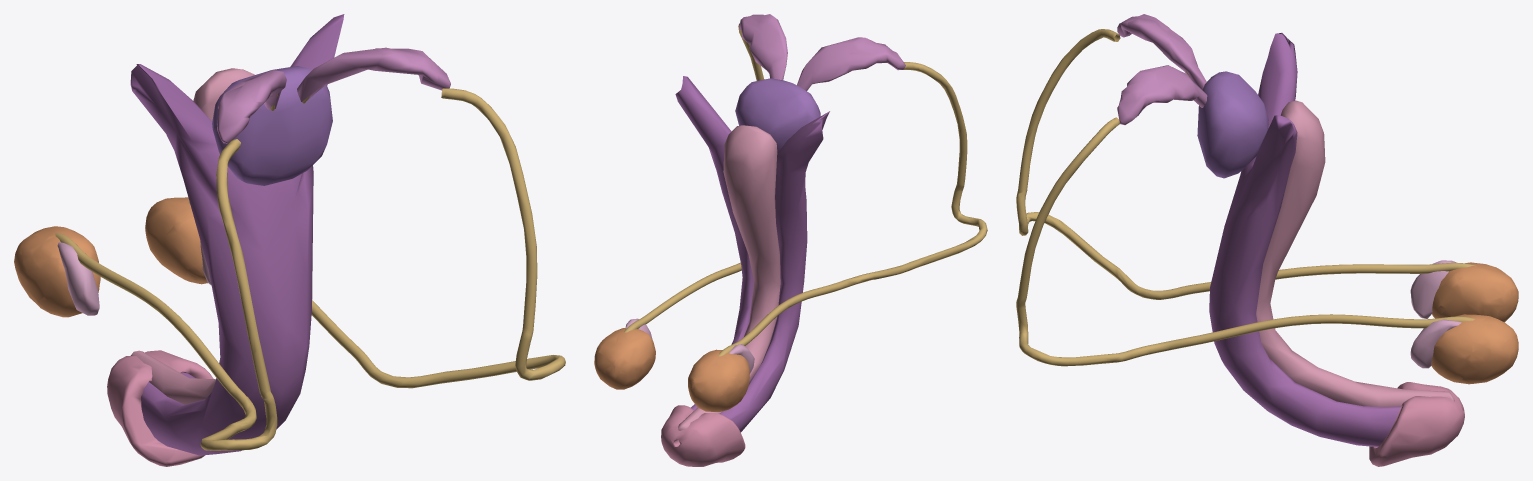
File: reproductive.glb
3 renders of one model, left to right at view 1: azimuth 30°, elevation 25°; view 2: azimuth 150°, elevation 25°; view 3: azimuth 270°, elevation 25°, orthographic. The views are drawn at different scales.
Visible parts, largest first — view 1: 阴茎海绵体, 前列腺, 右侧输精管, 左侧输精管, 阴茎头, 右侧睾丸, 左侧睾丸, 左侧精囊, 尿道海绵体, 右侧精囊, 右侧附睾; view 2: 阴茎海绵体, 尿道海绵体, 右侧输精管, 前列腺, 阴茎头, 右侧睾丸, 左侧睾丸, 右侧精囊, 左侧精囊, 左侧输精管; view 3: 阴茎海绵体, 尿道海绵体, 左侧输精管, 右侧输精管, 前列腺, 阴茎头, 左侧睾丸, 右侧睾丸, 左侧精囊, 右侧精囊, 右侧附睾, 左侧附睾.
Part boxes in pixels (bbox=[...]): 阴茎海绵体: bbox=[130, 14, 344, 455]; 前列腺: bbox=[212, 66, 332, 185]; 右侧输精管: bbox=[55, 139, 277, 450]; 左侧输精管: bbox=[188, 88, 565, 388]; 阴茎头: bbox=[107, 350, 213, 466]; 右侧睾丸: bbox=[14, 226, 100, 317]; 左侧睾丸: bbox=[145, 197, 207, 284]; 左侧精囊: bbox=[297, 47, 450, 101]; 尿道海绵体: bbox=[130, 68, 254, 404]; 右侧精囊: bbox=[217, 70, 286, 143]; 右侧附睾: bbox=[57, 242, 99, 315]; 阴茎海绵体: bbox=[675, 76, 829, 432]; 尿道海绵体: bbox=[678, 125, 780, 430]; 右侧输精管: bbox=[718, 62, 987, 356]; 前列腺: bbox=[735, 78, 820, 153]; 阴茎头: bbox=[661, 405, 745, 466]; 右侧睾丸: bbox=[688, 349, 749, 411]; 左侧睾丸: bbox=[594, 328, 655, 389]; 右侧精囊: bbox=[797, 37, 905, 90]; 左侧精囊: bbox=[739, 14, 787, 80]; 左侧输精管: bbox=[624, 23, 764, 332]; 阴茎海绵体: bbox=[1209, 32, 1400, 446]; 尿道海绵体: bbox=[1256, 100, 1454, 407]; 左侧输精管: bbox=[1016, 117, 1474, 366]; 右侧输精管: bbox=[1016, 29, 1475, 299]; 前列腺: bbox=[1197, 71, 1268, 178]; 阴茎头: bbox=[1369, 382, 1464, 466]; 左侧睾丸: bbox=[1431, 314, 1518, 384]; 右侧睾丸: bbox=[1432, 262, 1518, 322]; 左侧精囊: bbox=[1117, 65, 1207, 124]; 右侧精囊: bbox=[1117, 14, 1206, 89]; 右侧附睾: bbox=[1410, 260, 1457, 318]; 左侧附睾: bbox=[1410, 319, 1461, 368].
Bounding box in the file's own units: 0.1656 × 0.2224 × 0.2438.
